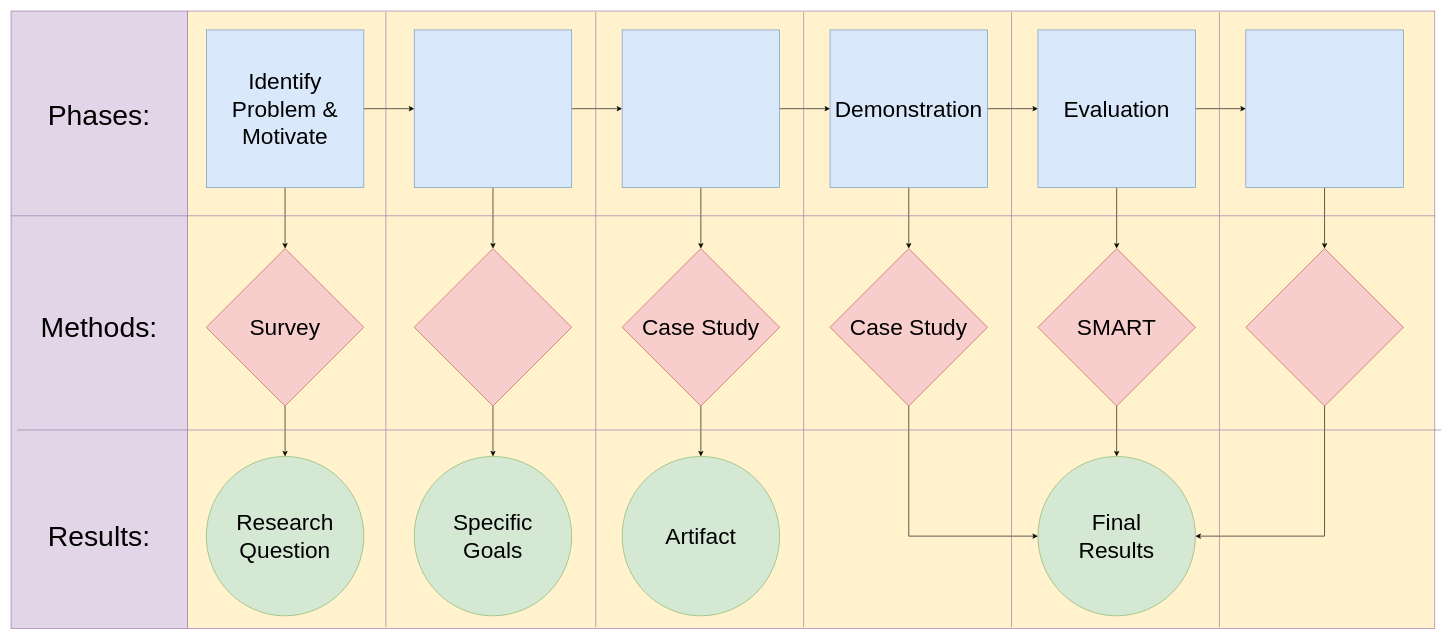
Image size: 1452x639. Some labels were removed from this diagram. Here are the shapes that lost their labels. From the top down, the box of each, then its label:
(414, 29, 572, 187): Define Objectives of a Solution
(621, 29, 780, 187): Design & Development
(1245, 29, 1403, 187): Communication
(414, 248, 572, 406): Survey, Case Study, Interviews
(1245, 248, 1403, 406): Public Defense
